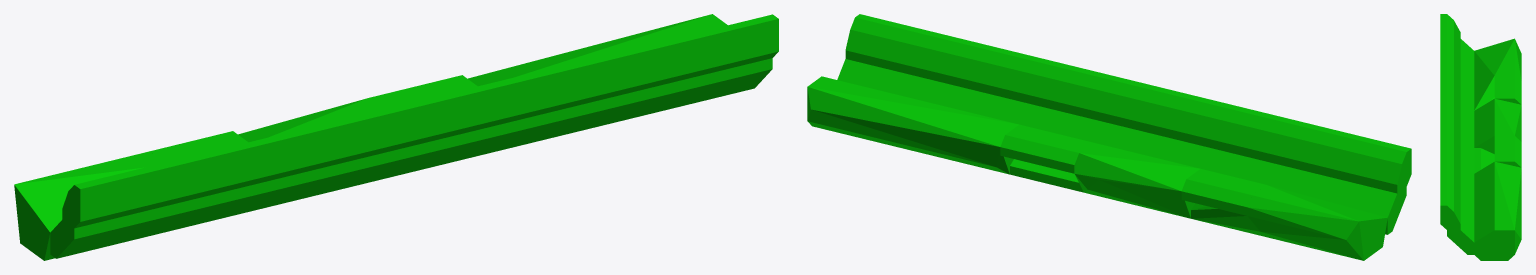
Rendered from UCX_AirCon_AirDuct.fbx.
3 views of the same model, side by side, from view 1: azimuth 30°, elevation 25°; view 2: azimuth 150°, elevation 25°; view 3: azimuth 270°, elevation 25° (orthographic). The views are drawn at different scales.
Visible parts, largest first — view 1: UCX_AirCon_AirDuct; view 2: UCX_AirCon_AirDuct; view 3: UCX_AirCon_AirDuct.
Part boxes in pixels (x1,y1,x2,y2): UCX_AirCon_AirDuct: [14, 14, 778, 260]; UCX_AirCon_AirDuct: [807, 14, 1411, 260]; UCX_AirCon_AirDuct: [1440, 14, 1521, 260].
Size of the model in its own units: 0.6412 by 0.0861 by 0.1148.
